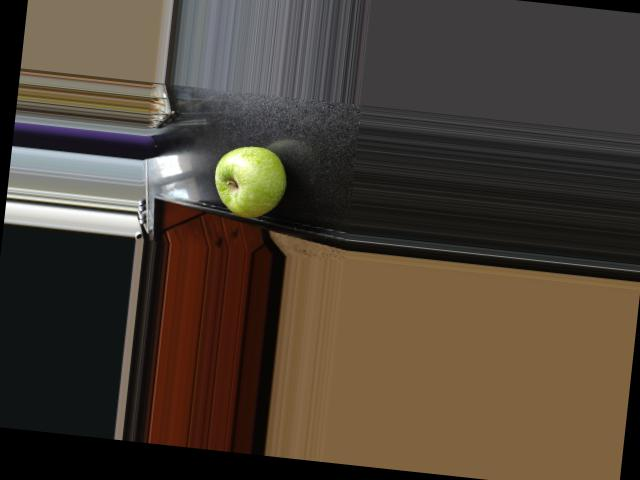apple: (206, 138, 294, 223)
